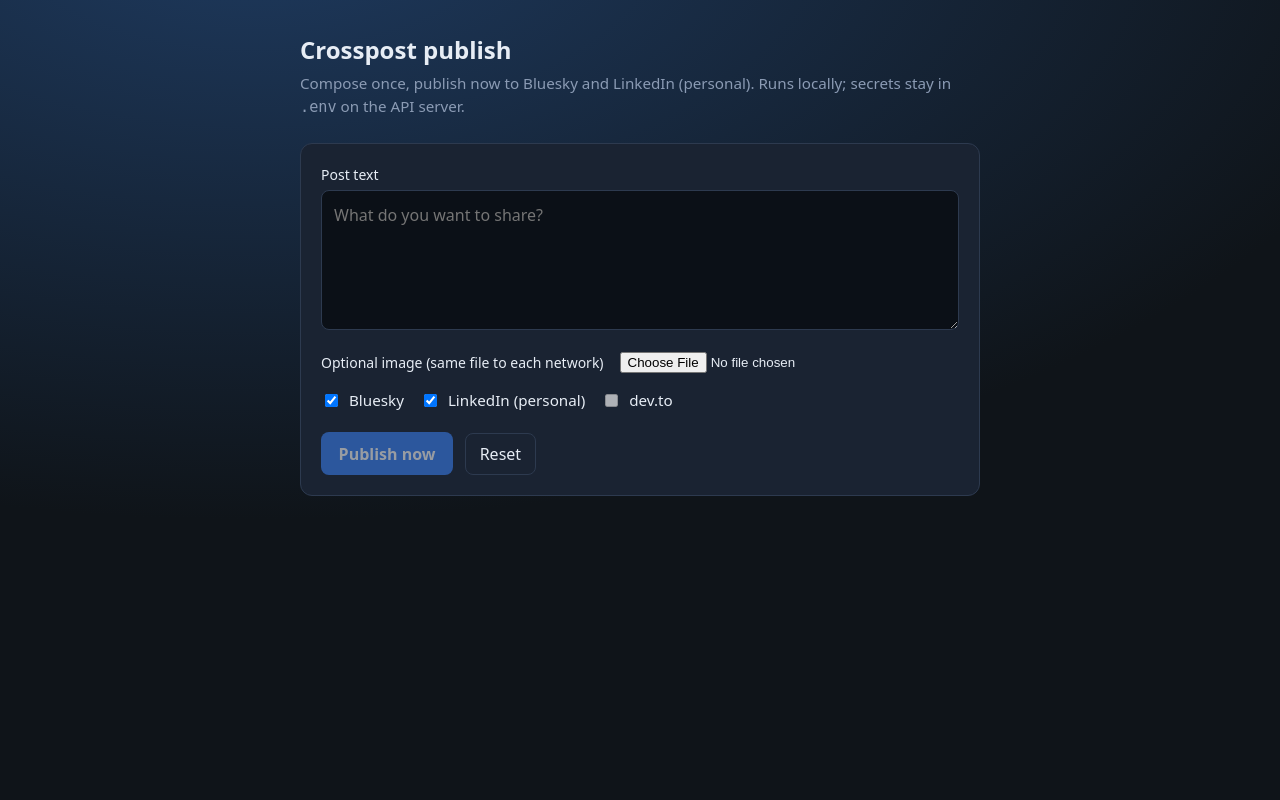
Test: dev.to submit-time lock › an unlocked combined dev.to+Bluesky submit carries both targets in one JSON body
The image size is (1280, 800).
Later steps or results of the test are not shown.
Type "short post" into the text box labelled "Post text".
click(640, 260); type("short post")  # box [321,190,959,330]
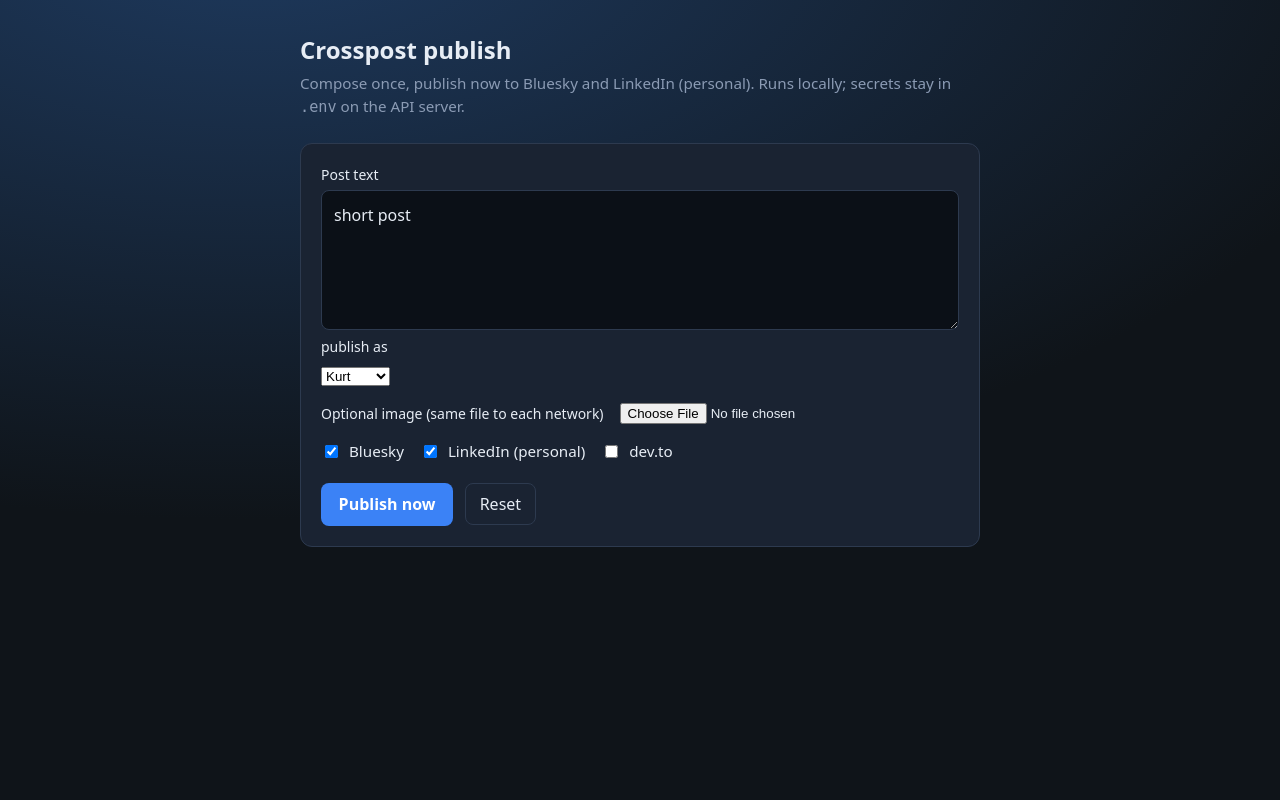
Result: the checkbox labelled "dev.to" is enabled at [605,445,618,458]
